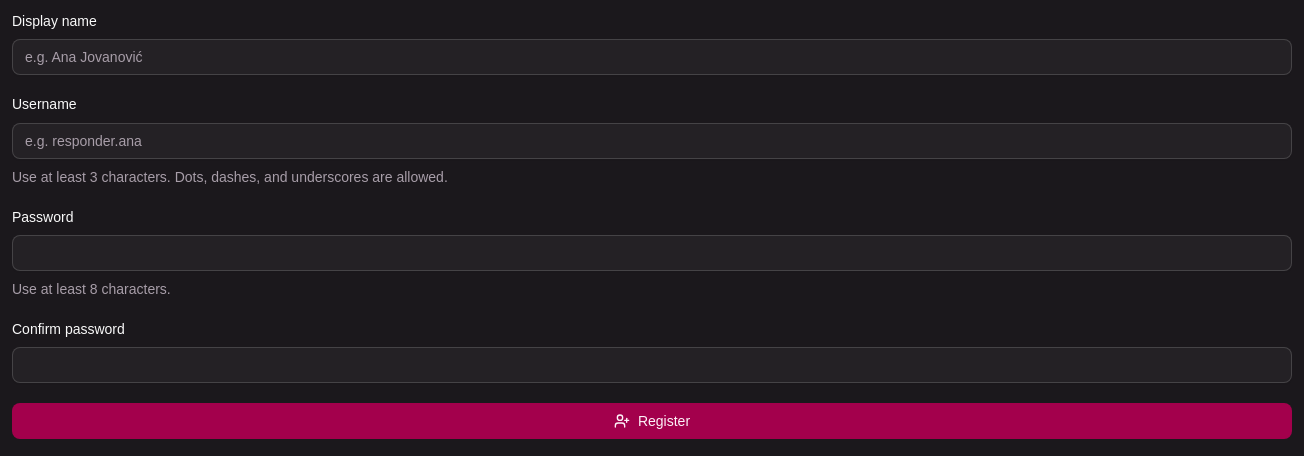
it: RegisterForm › locks every field and the button while registration is pending
This screenshot has width=1304, height=456.
Type " New Engineer " into the field labelled "Display name".
click(652, 57); type(" New Engineer ")  # box [12, 39, 1292, 75]
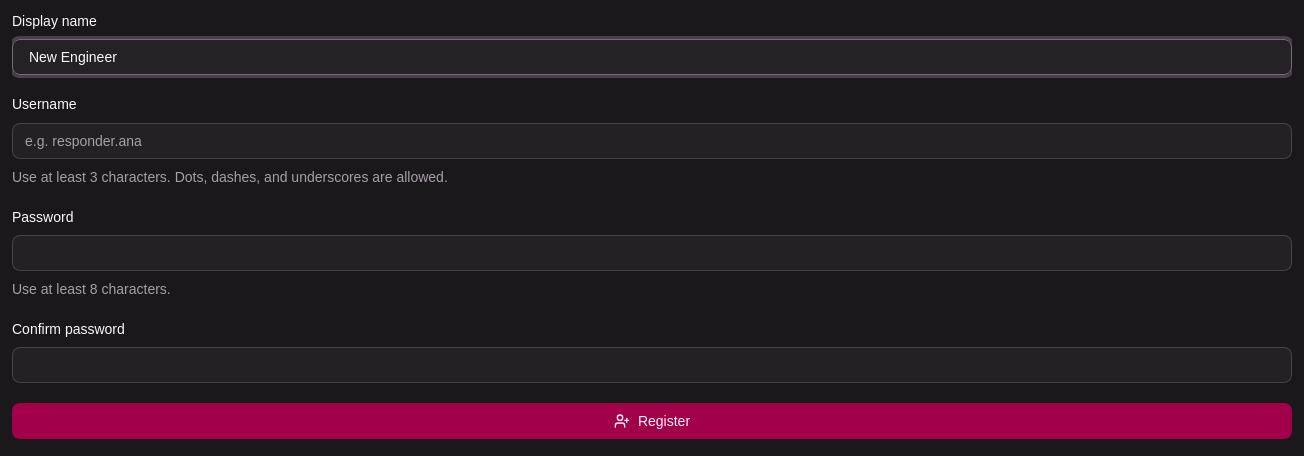
Type " New.Responder " into the field labelled "Username".
click(652, 140); type(" New.Responder ")  # box [12, 122, 1292, 158]
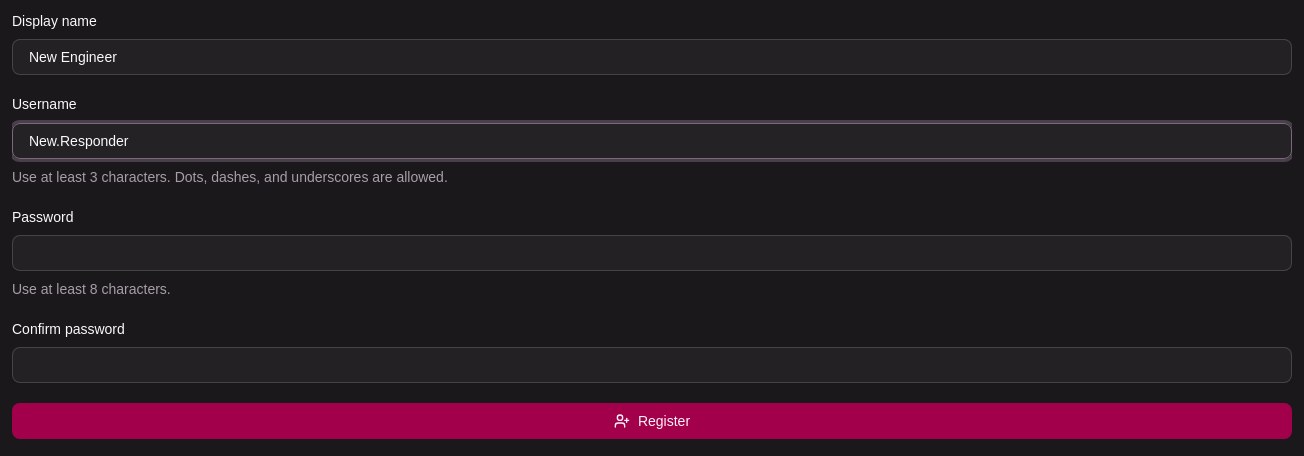
Type "strong-password" into the password field labelled "Password".
click(652, 253); type("strong-password")  # box [12, 235, 1292, 271]
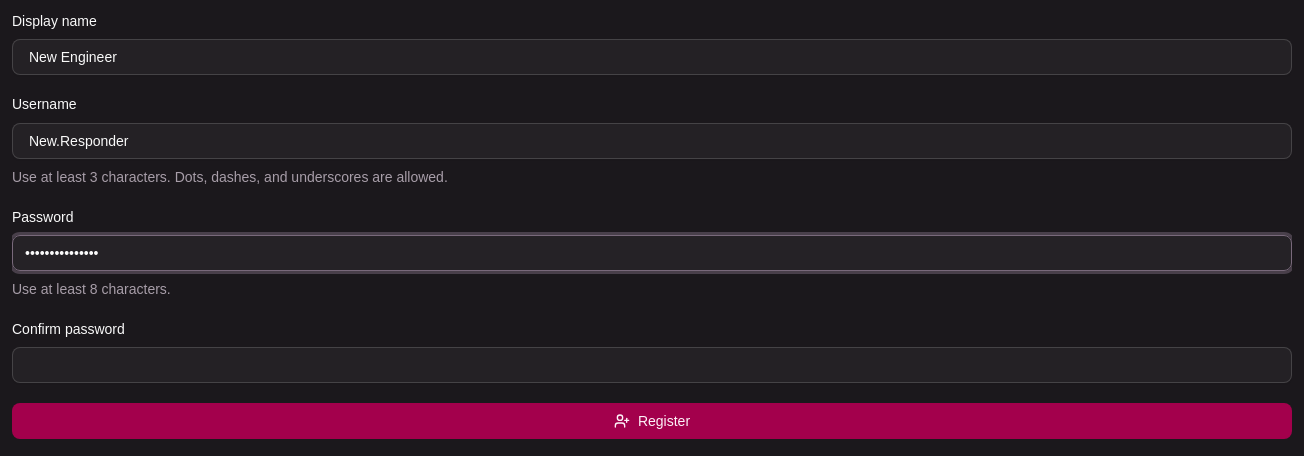
Type "strong-password" into the password field labelled "Confirm password".
click(652, 365); type("strong-password")  # box [12, 347, 1292, 383]
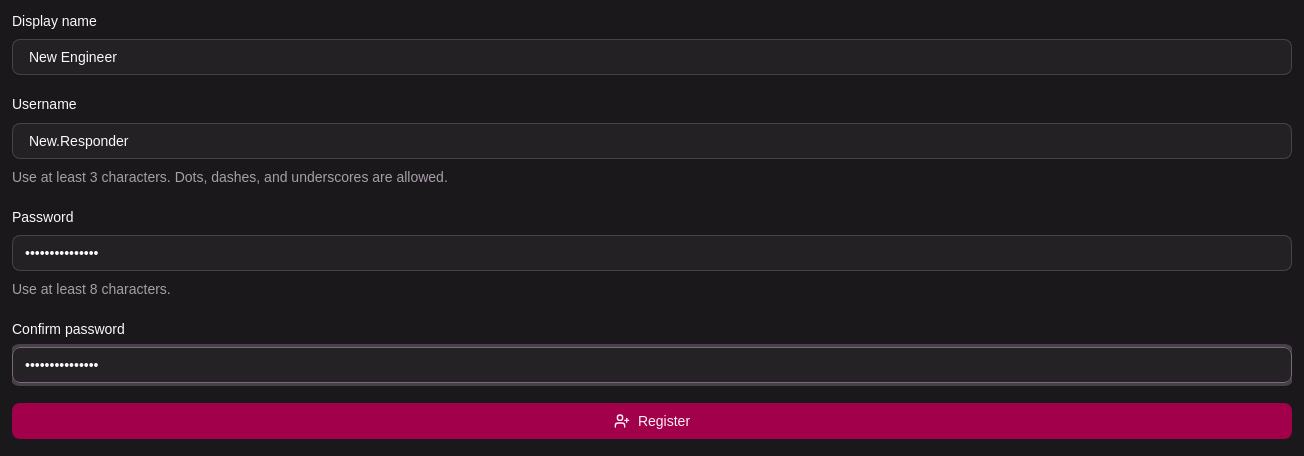
Click the button "Register".
click(652, 421)  # box [12, 403, 1292, 439]
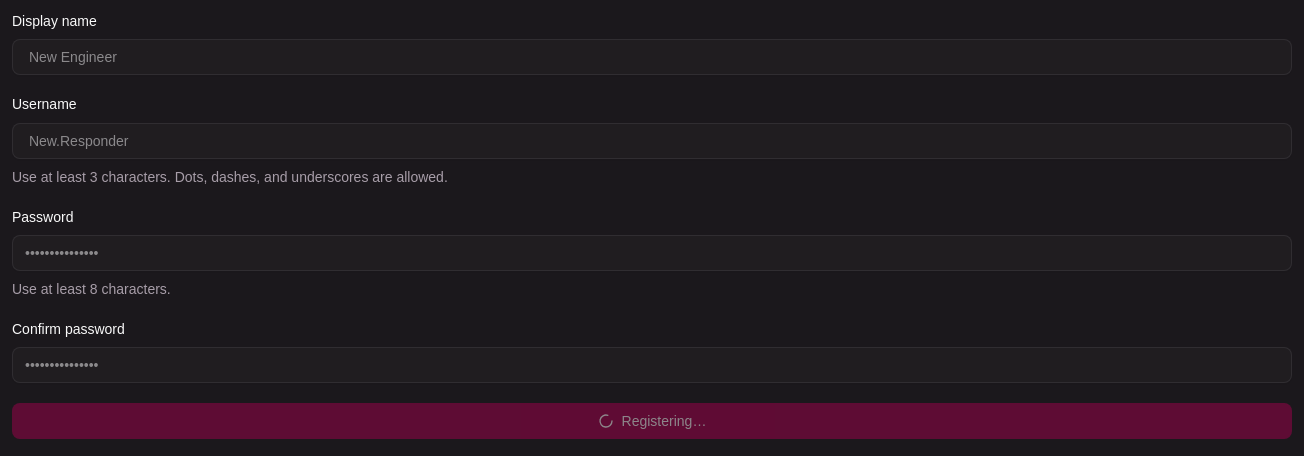
Expected: the button "Registering…" is disabled, [12, 403, 1292, 439]
Expected: the field labelled "Display name" is disabled, [12, 39, 1292, 75]
Expected: the field labelled "Username" is disabled, [12, 122, 1292, 158]
